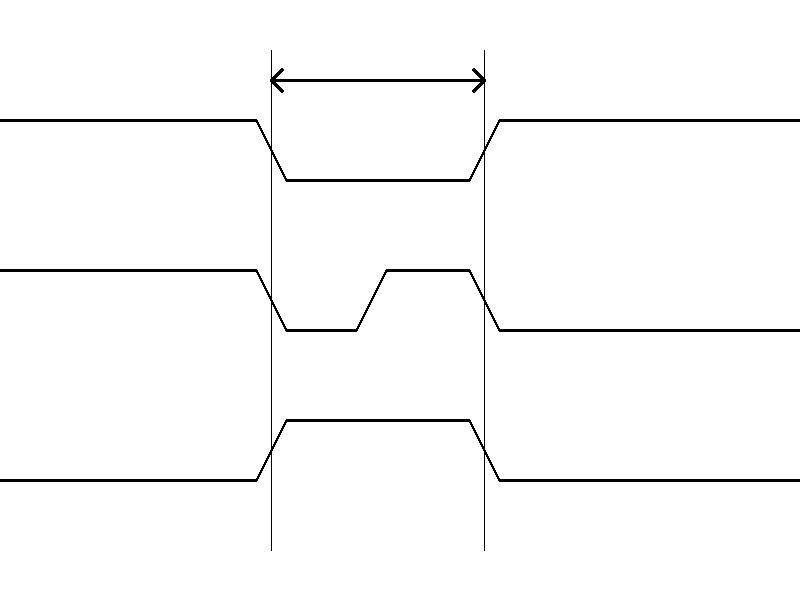double_arrow: (271, 65, 484, 95)
